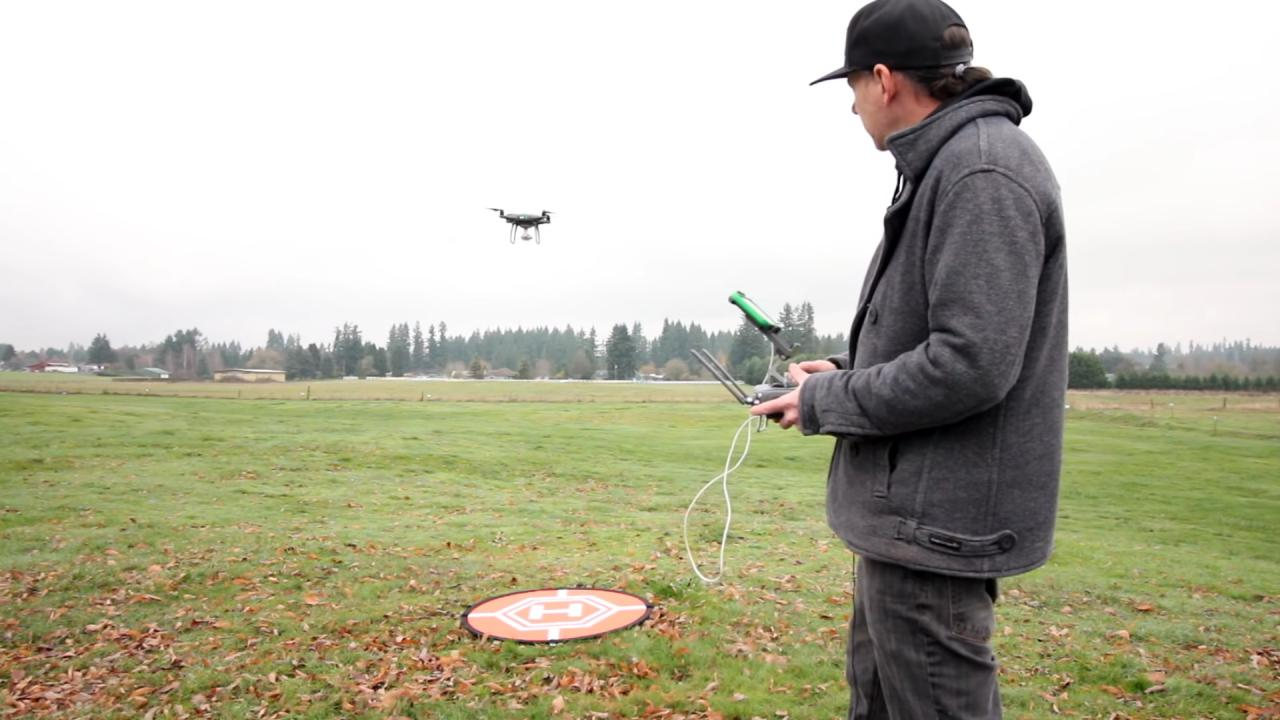Drone: (476, 197, 566, 256)
